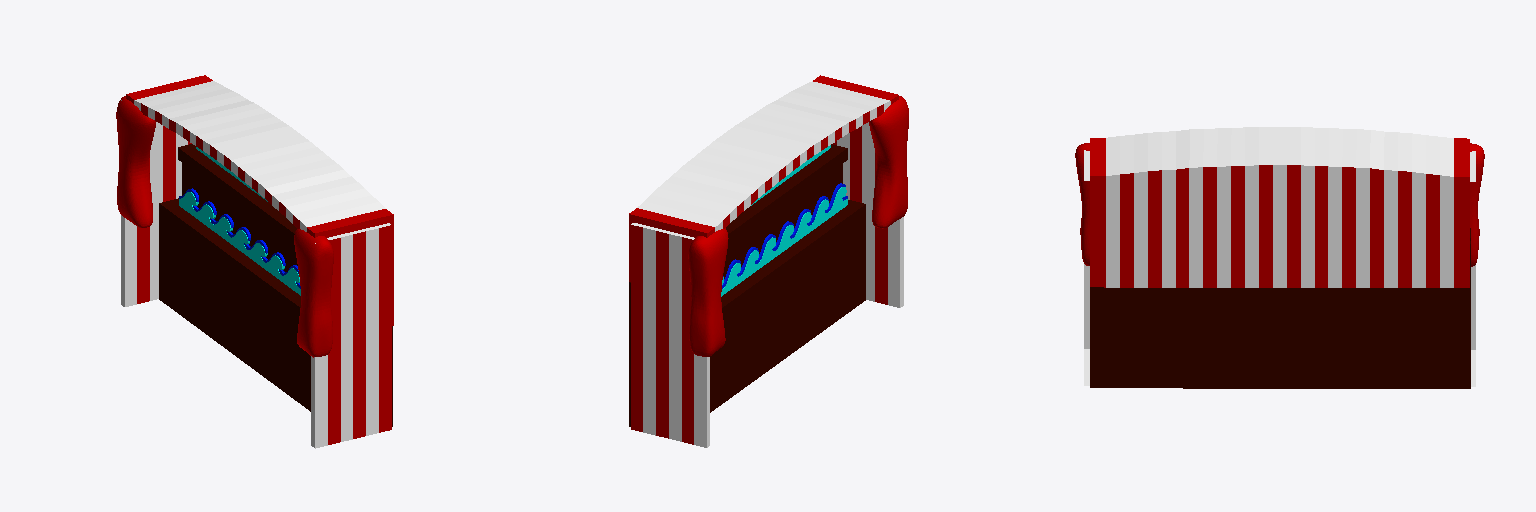
The model's file is Duck_Shooting.obj.
3 renders of one model, left to right at view 1: azimuth 30°, elevation 25°; view 2: azimuth 150°, elevation 25°; view 3: azimuth 270°, elevation 25°, orthographic.
Parts seen in each view (by area): view 1: Cube.014_Cube.026; view 2: Cube.014_Cube.026; view 3: Cube.014_Cube.026.
Boxes of the visible parts, x1=… form: Cube.014_Cube.026: x1=116, y1=75, x2=393, y2=448; Cube.014_Cube.026: x1=629, y1=75, x2=908, y2=447; Cube.014_Cube.026: x1=1075, y1=127, x2=1484, y2=388.
Bounding box in the file's own units: 0.6944 × 1.67 × 2.77.